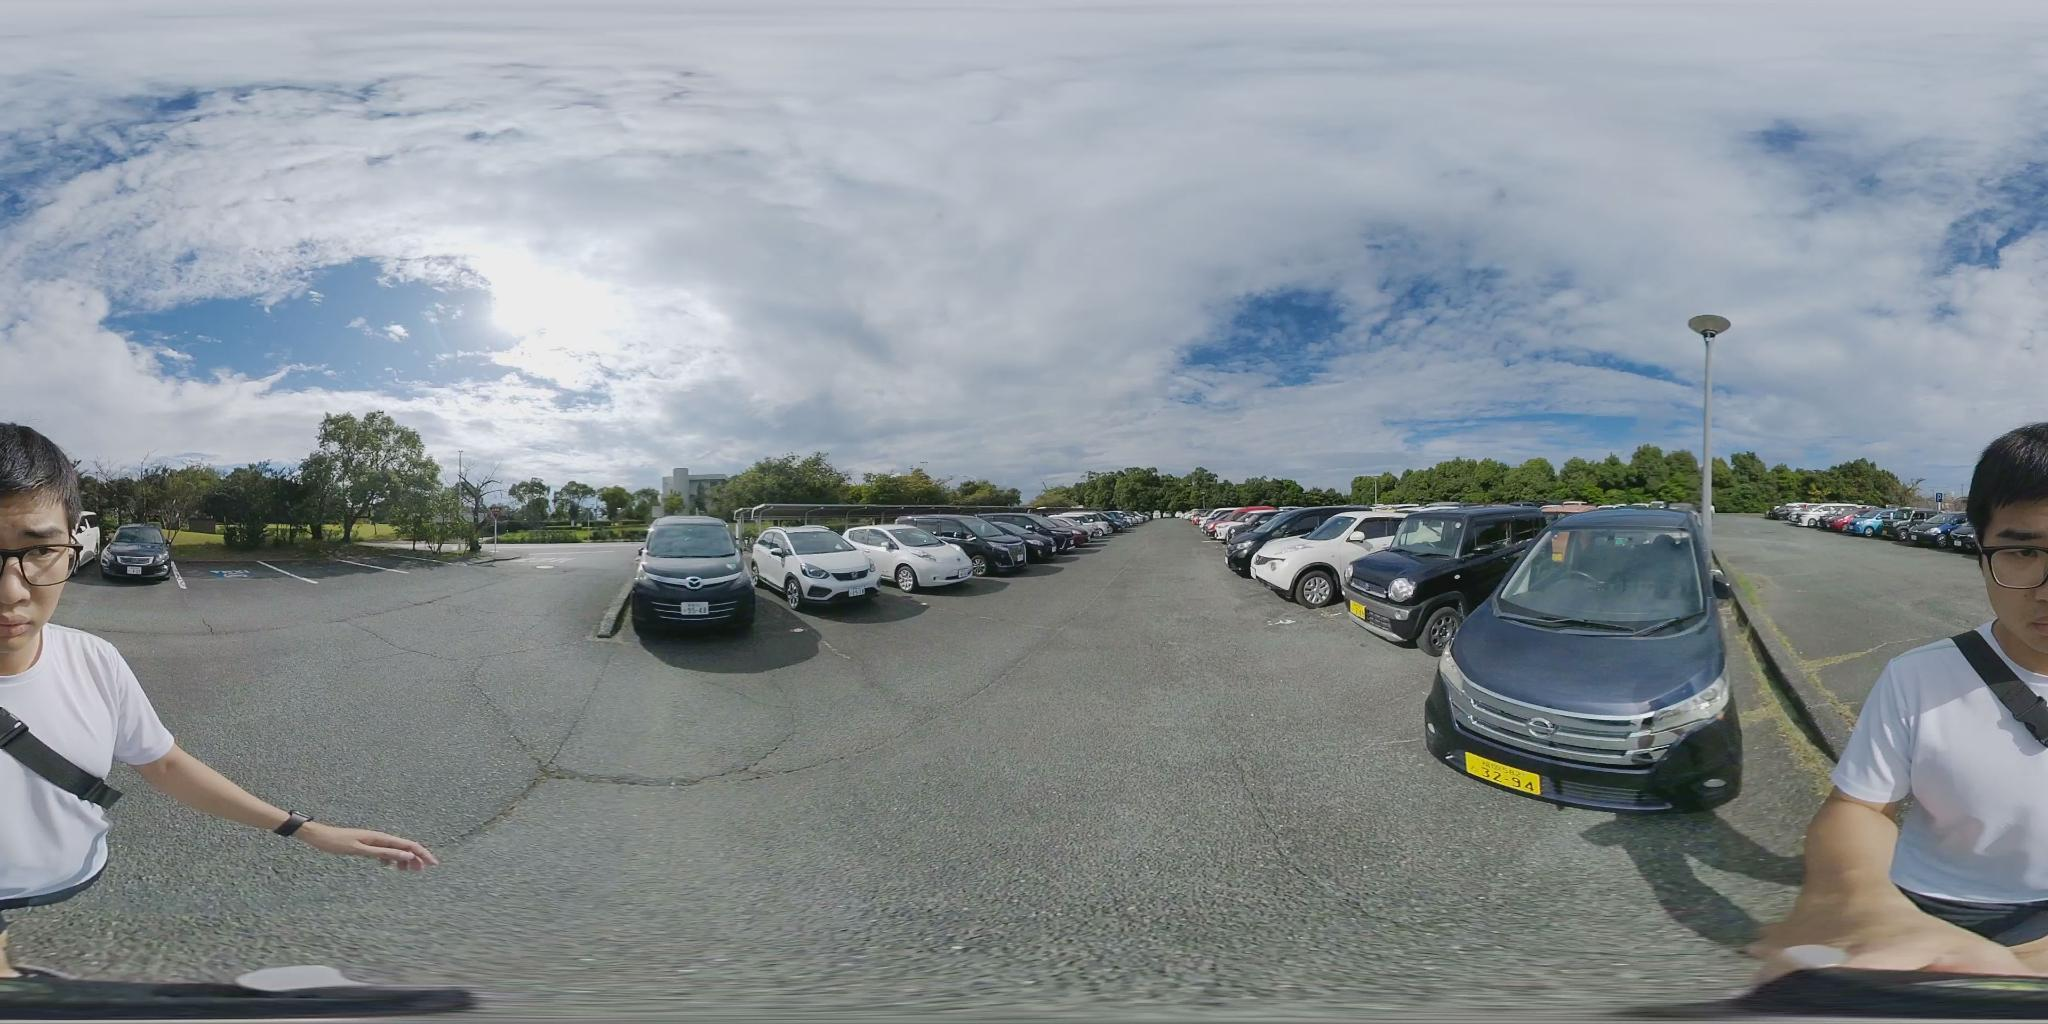car: (1343, 508, 1571, 650), (1246, 509, 1417, 605), (636, 517, 755, 637), (752, 530, 884, 610), (842, 524, 980, 590), (916, 515, 1051, 571), (1195, 508, 1277, 546), (1894, 517, 1968, 549), (1791, 502, 1869, 528), (1882, 513, 1942, 545), (1848, 512, 1910, 539), (1057, 515, 1118, 542), (1834, 508, 1894, 534), (1767, 503, 1835, 525)
